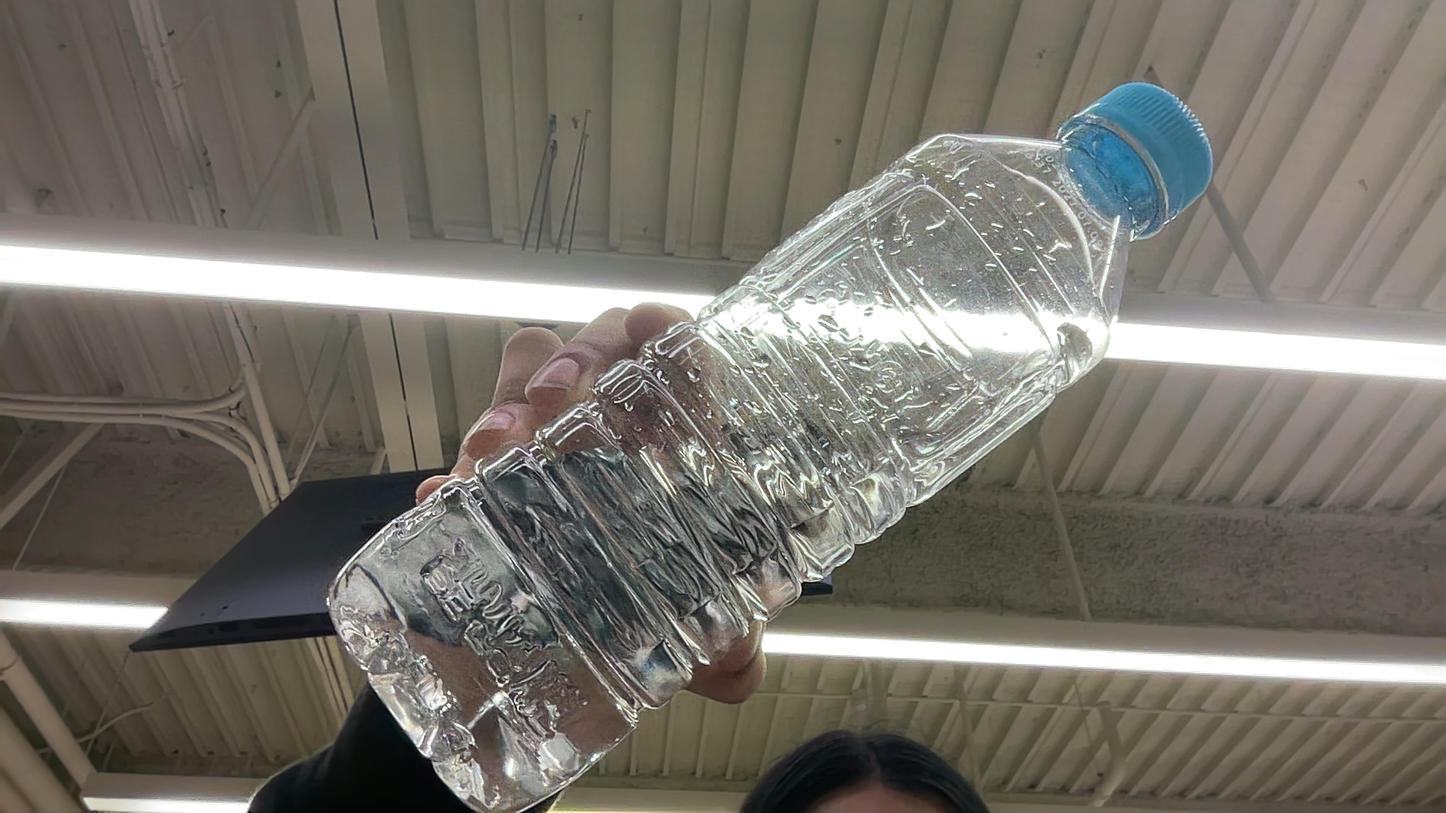Plastic: (7, 616, 369, 813)
